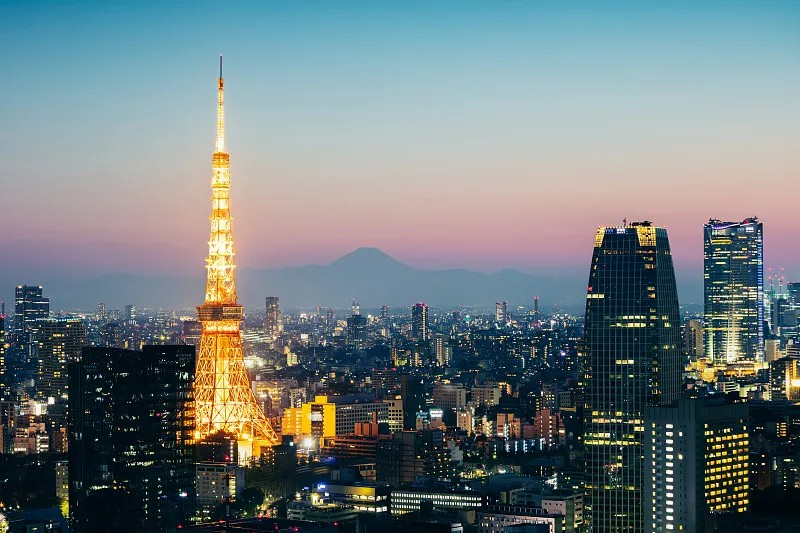Tokyo: (178, 53, 276, 449)
